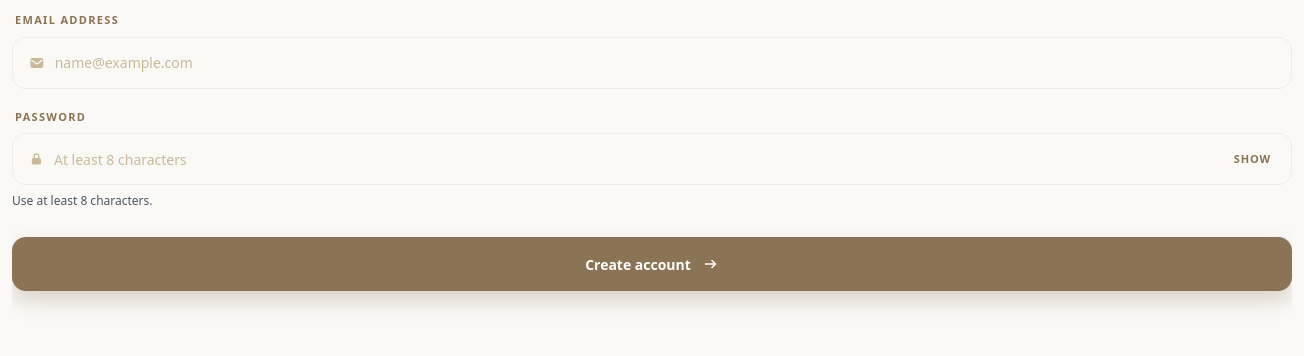
Test: SignupForm › shows a generic error when the action throws
This screenshot has width=1304, height=356.
Type "ada@example.com" into the field labelled "EMAIL ADDRESS" at (665, 62), box [55, 38, 1275, 88]
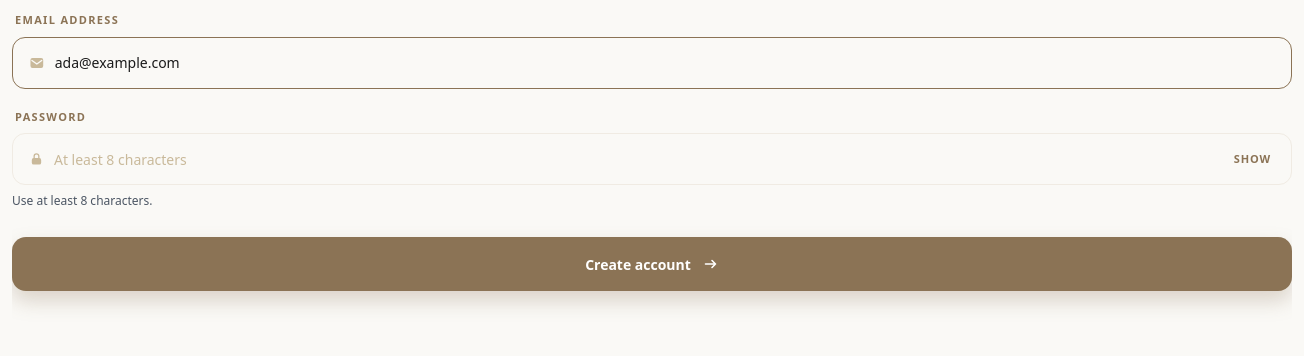
Type "password123" into the password field labelled "PASSWORD" at (637, 159), box [54, 134, 1220, 184]
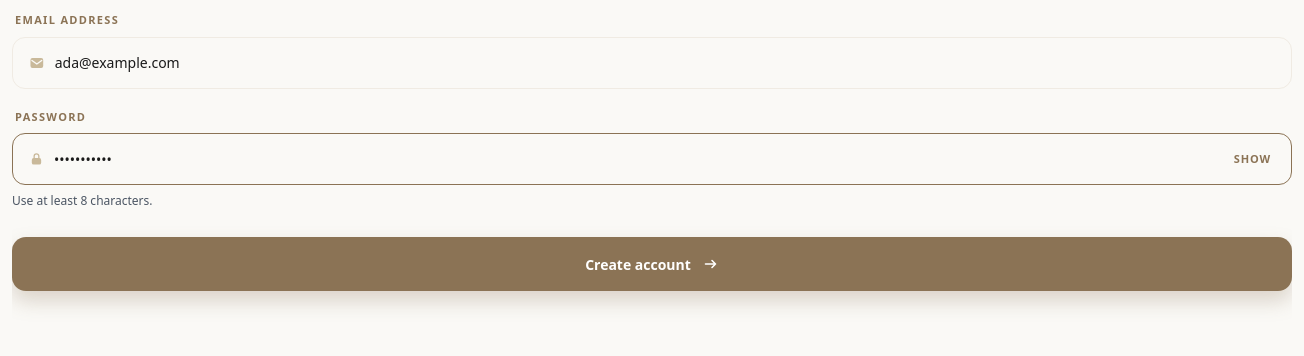
Click the button "Create account" at (652, 264), box [12, 237, 1292, 291]
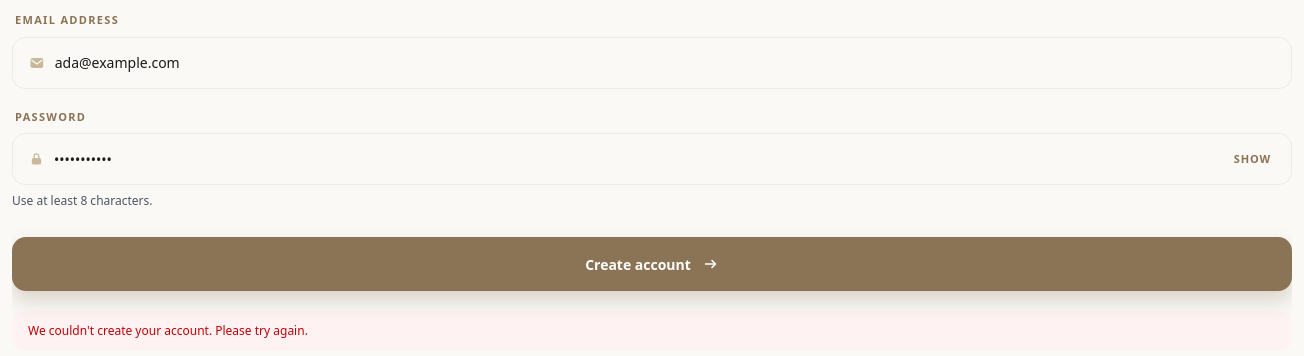
Result: the message shows "couldn't create your account" at [28, 322, 308, 339]
